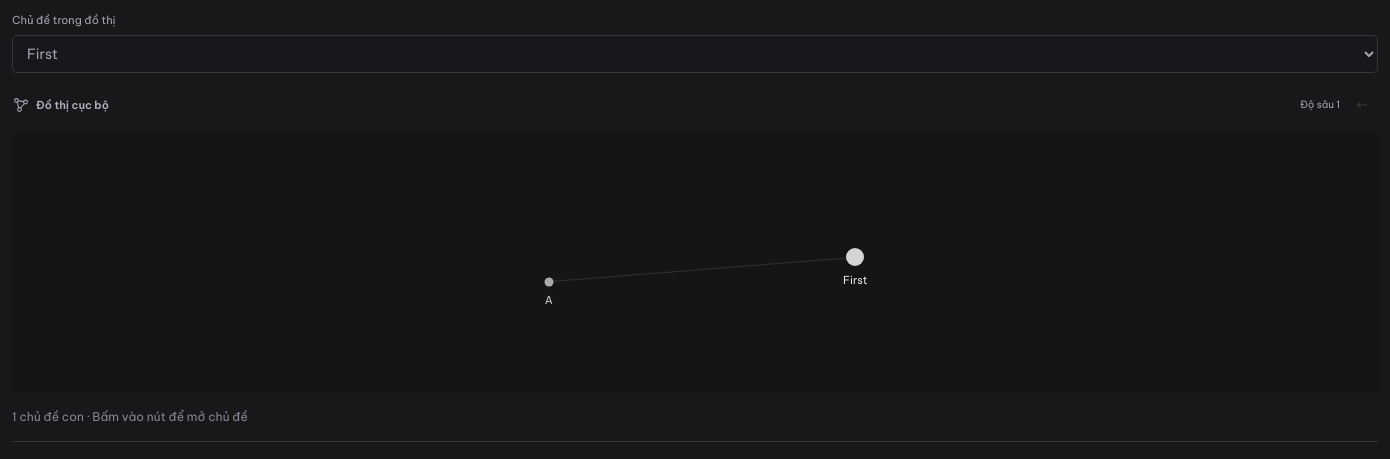
Test: updates the graph when a note belongs to a different selected topic
Check: the button "A" is shown, box [531, 264, 567, 300]
Select "Second" in the dropdown labelled "Chủ đề trong đồ thị": point(695, 54) [12, 35, 1378, 73]
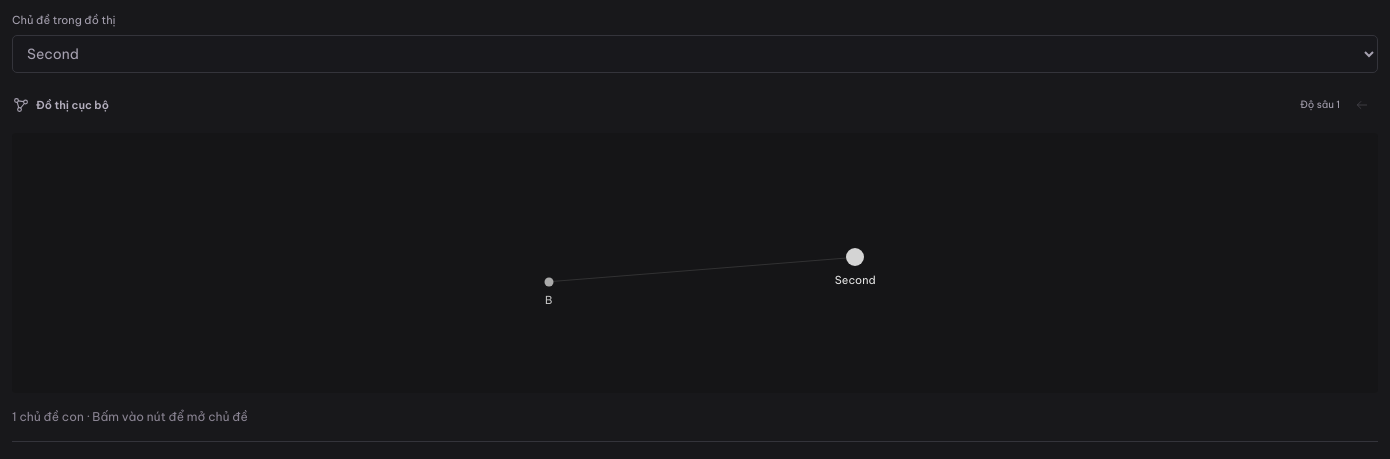
Check: the button "B" is shown, box [531, 264, 567, 300]
Check: the button "A" is gone
